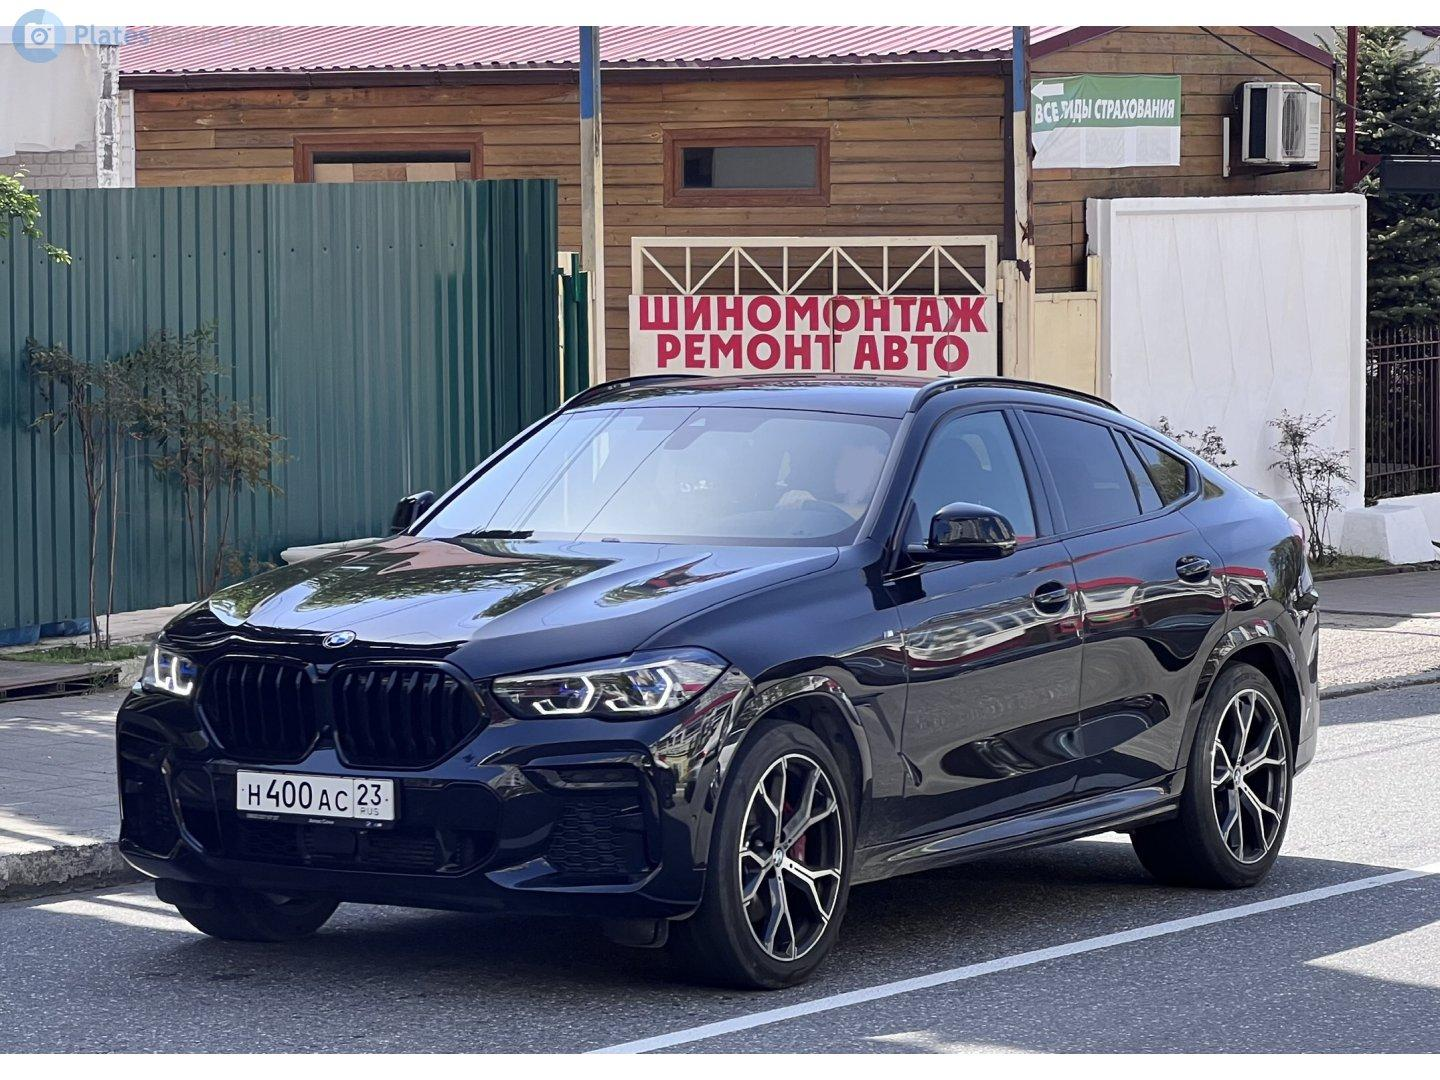license-plateSW: (235, 774, 394, 820)
